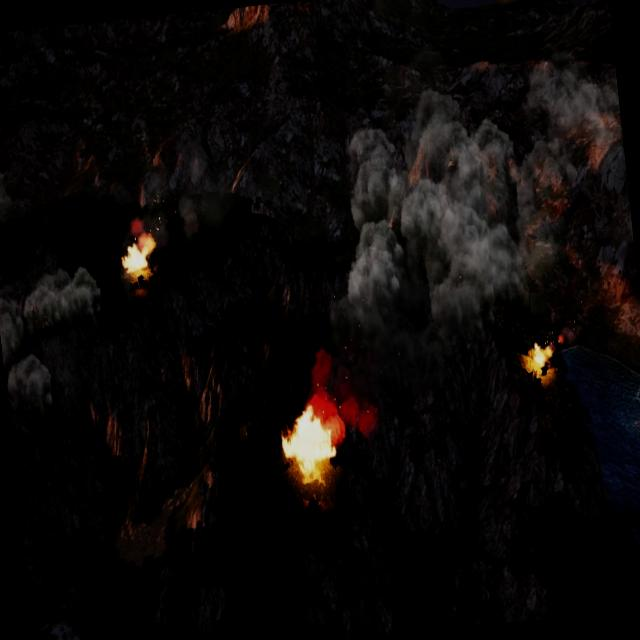fire: (277, 397, 347, 486), (120, 232, 159, 279), (524, 340, 556, 378)
smoke: (278, 57, 640, 507), (0, 258, 112, 417), (125, 144, 218, 246), (0, 158, 23, 228)
